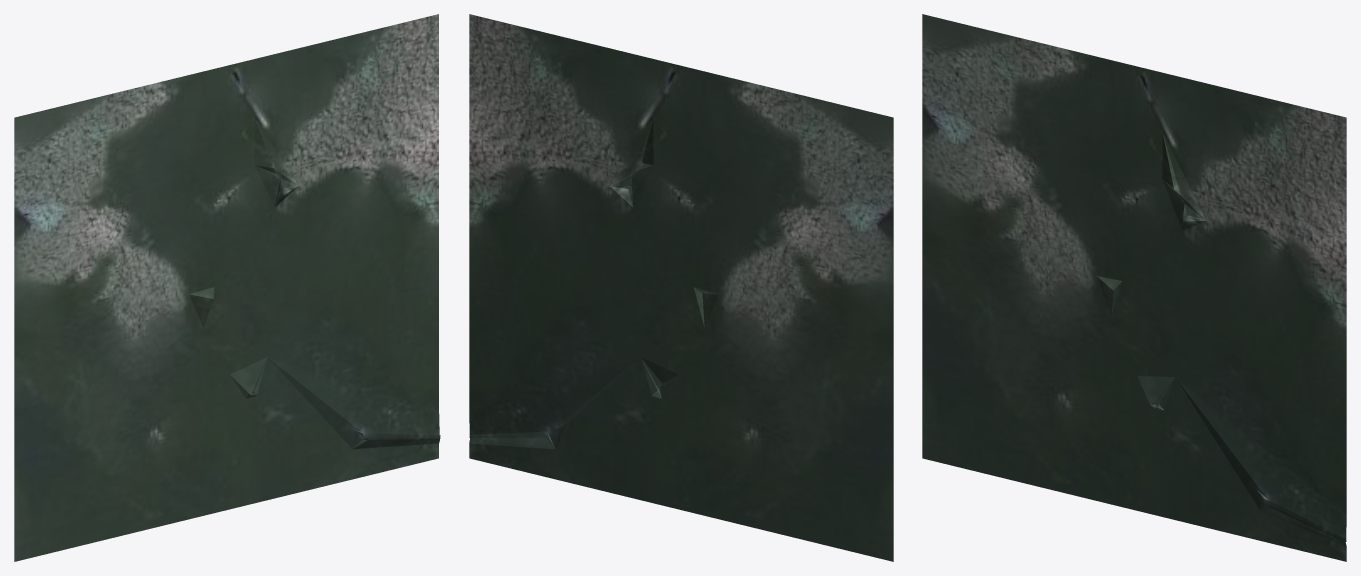
File: Tile_+037_+019_L17_0000.glb
The picture shows the model from 3 angles, left to right: view 1: azimuth 30°, elevation 25°; view 2: azimuth 150°, elevation 25°; view 3: azimuth 330°, elevation 25°; orthographic projection.
Size of the model in its own units: 126 by 126 by 2.17.
1 material, 1 textured.
